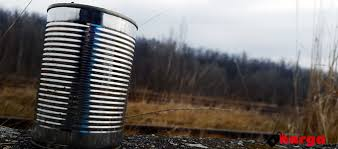metal: (32, 1, 140, 146)
